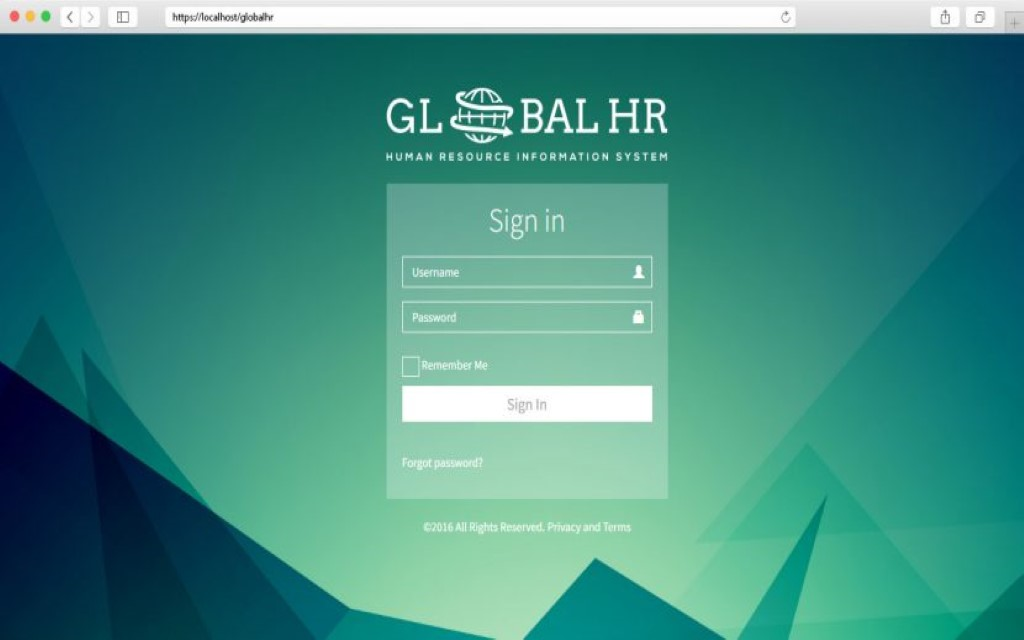button: (401, 387, 652, 421)
button_SignIn: (401, 385, 655, 421)
checkbox: (401, 356, 420, 377)
label_SignIn: (505, 397, 553, 413)
label_Username: (410, 262, 461, 280)
label_password: (399, 298, 654, 335), (408, 309, 456, 326)
label_remember: (424, 357, 489, 376)
textbox: (402, 255, 630, 285), (403, 302, 631, 331)
textbox_username: (401, 255, 652, 289)
